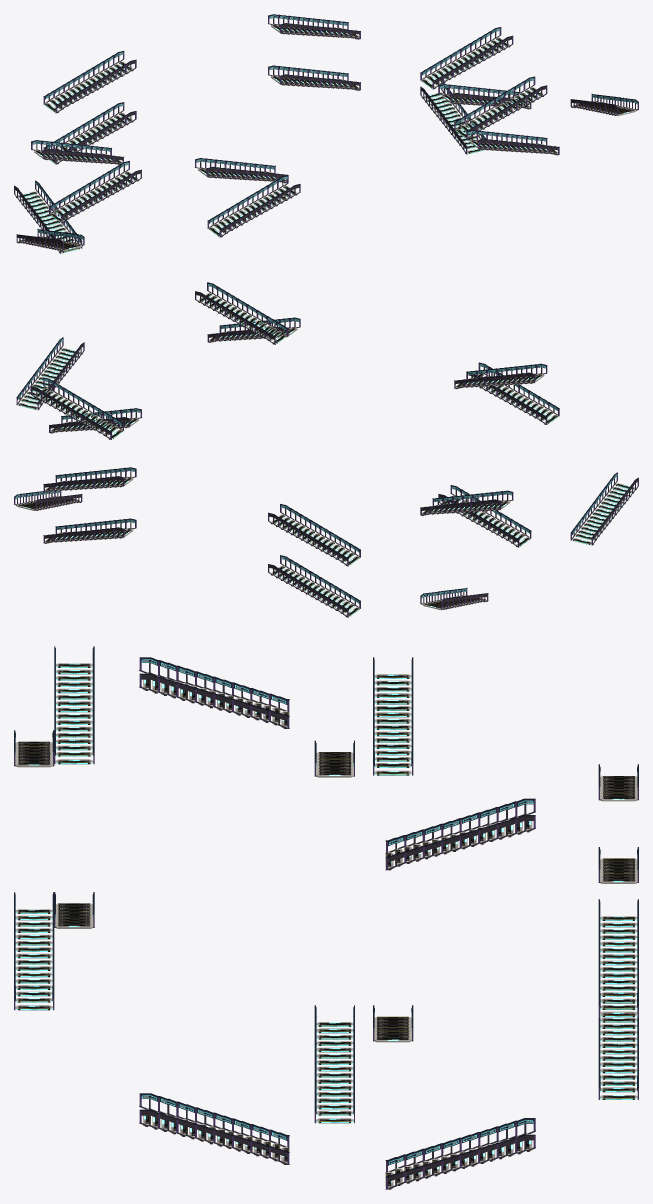
File: fence.fbx
The picture shows the model from 3 angles, top to bottom: view 1: azimuth 30°, elevation 25°; view 2: azimuth 150°, elevation 25°; view 3: azimuth 270°, elevation 25°; orthographic projection. The views are drawn at different scales.
Parts seen in each view (by area): view 1: m_Ins_Bld_Mus_001; view 2: m_Ins_Bld_Mus_001; view 3: m_Ins_Bld_Mus_001.
Part boxes in pixels (box(x1,y1,x2,y2)): m_Ins_Bld_Mus_001: box(14, 14, 638, 253); m_Ins_Bld_Mus_001: box(14, 282, 638, 617); m_Ins_Bld_Mus_001: box(14, 646, 638, 1189).
Size of the model in its own units: 64.39 by 16.01 by 37.55.
Materials: 1 (1 with a texture image).
